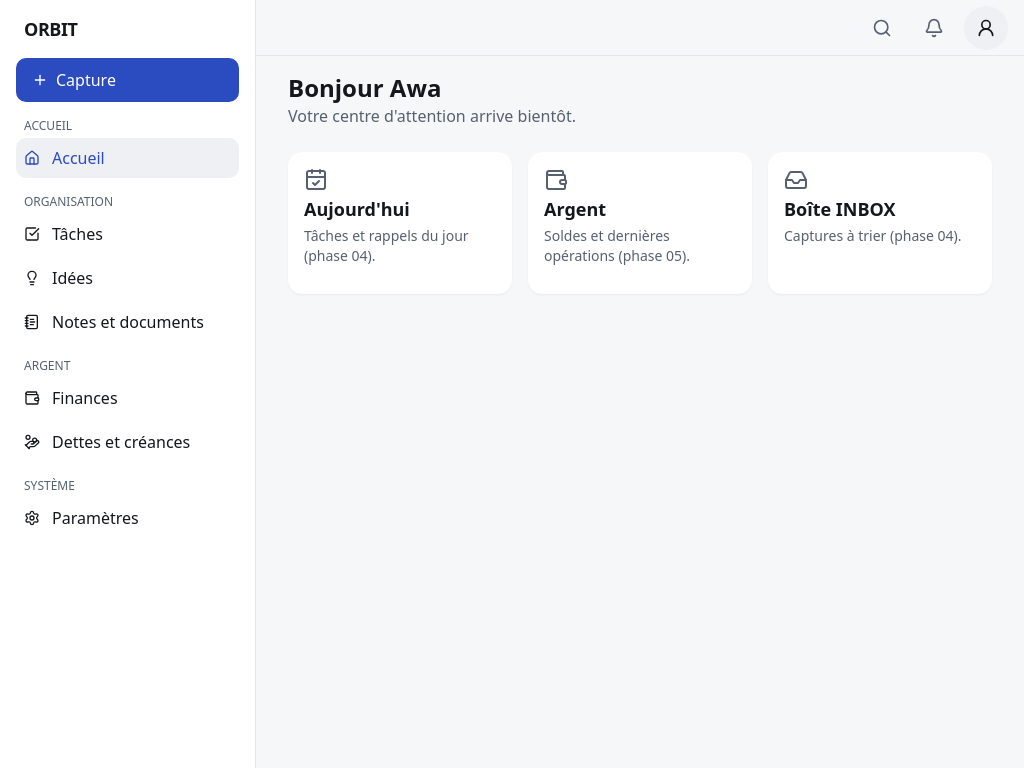
Test: shell and navigation › renders the desktop sidebar and opens quick capture with N
expect the text "Organisation" is shown: met, box [24,193,113,210]
Type keys "n"
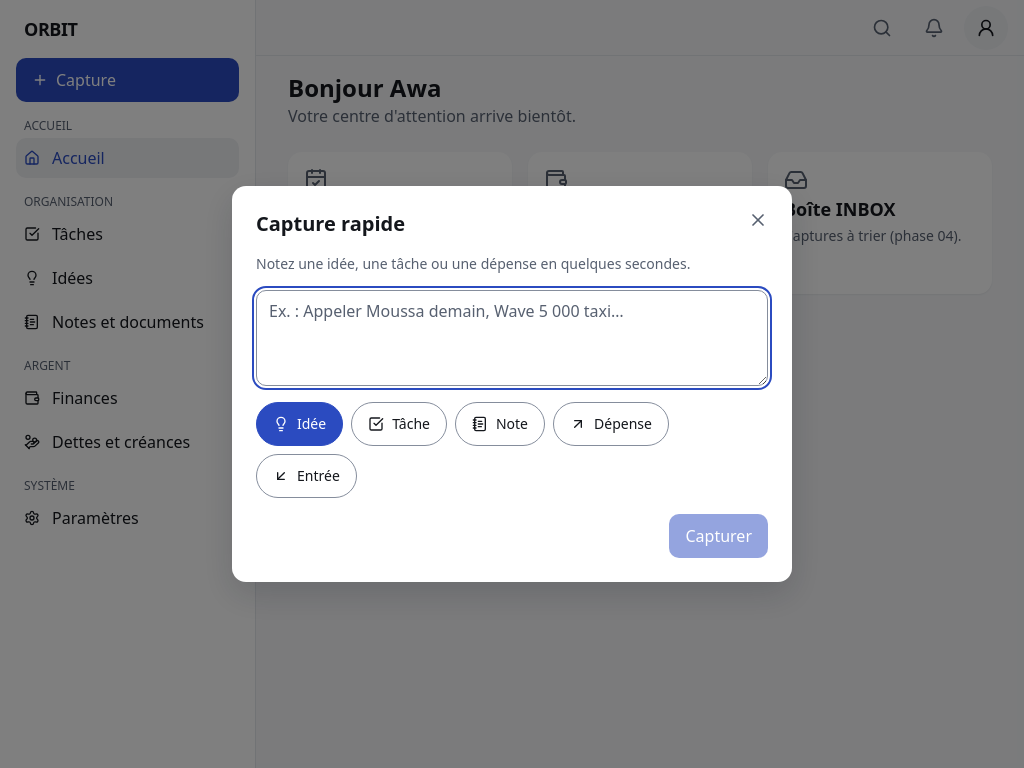
expect the heading "Capture rapide" is shown: met, box [256,210,405,237]
Click the radio button labelled "Dépense" at (611, 424), box [553,402,669,446]
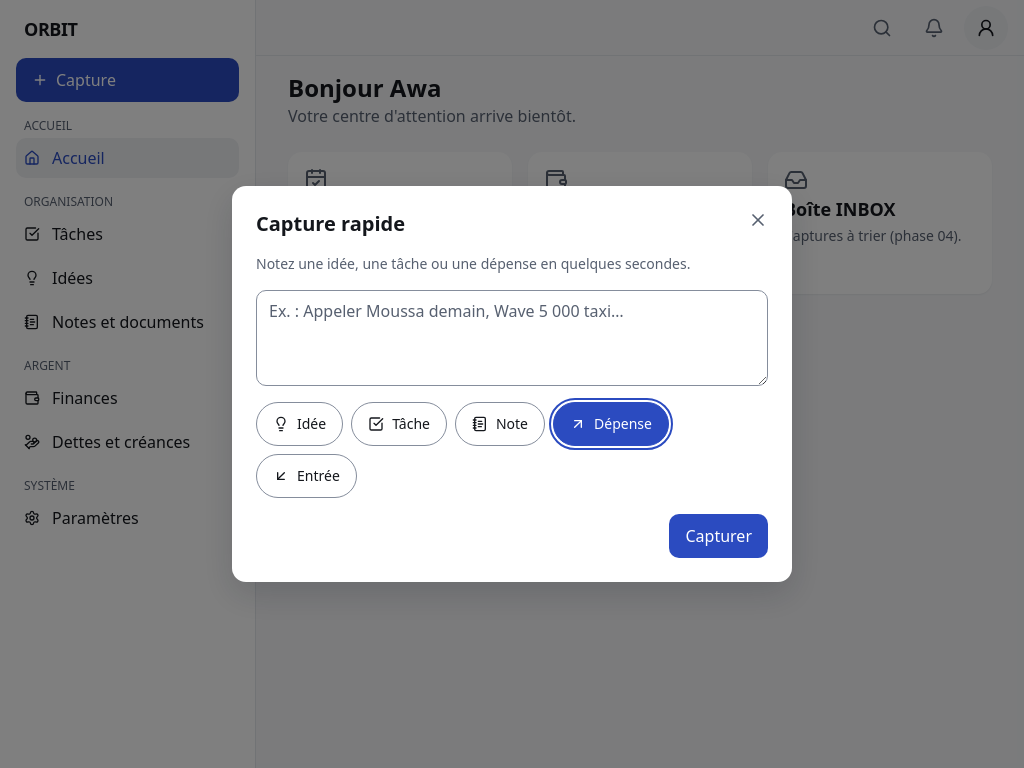
expect the button "Capturer" is shown: met, box [670,514,768,558]
